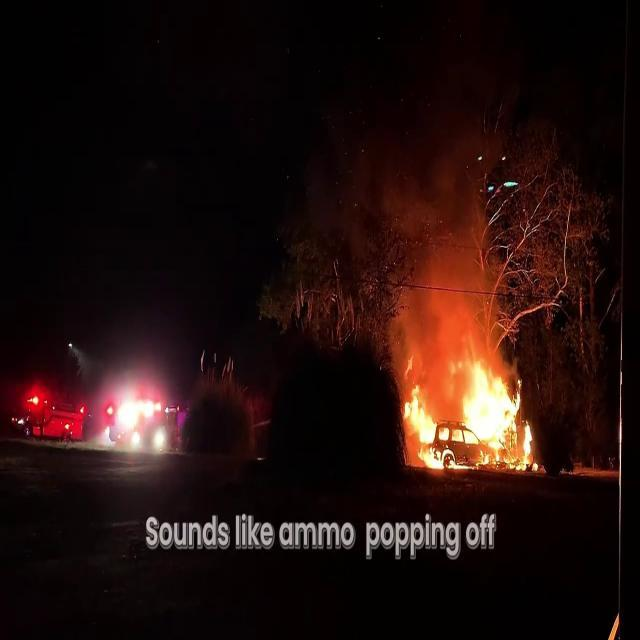Fire: (401, 340, 537, 472)
Smoke: (370, 66, 496, 350)
